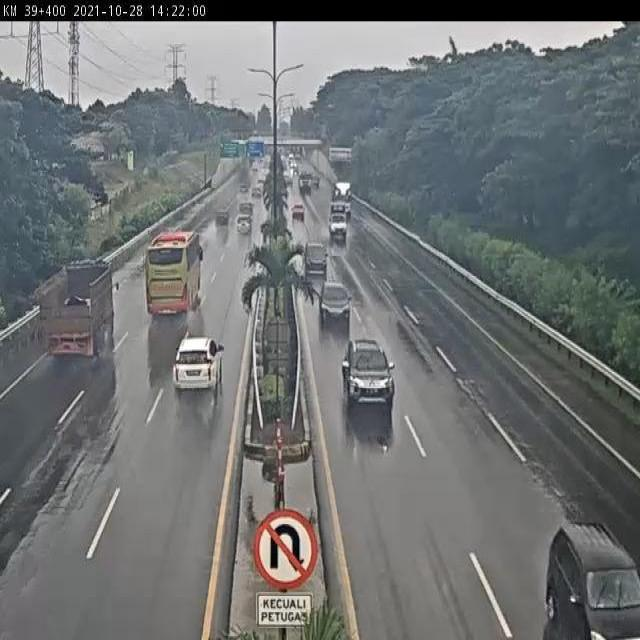big bus: (144, 230, 203, 322)
car: (544, 518, 640, 640), (343, 339, 395, 404), (174, 338, 223, 391), (317, 278, 351, 326), (303, 242, 329, 278)
truck-l-: (44, 259, 114, 360)
truck-s-: (327, 200, 349, 241)
